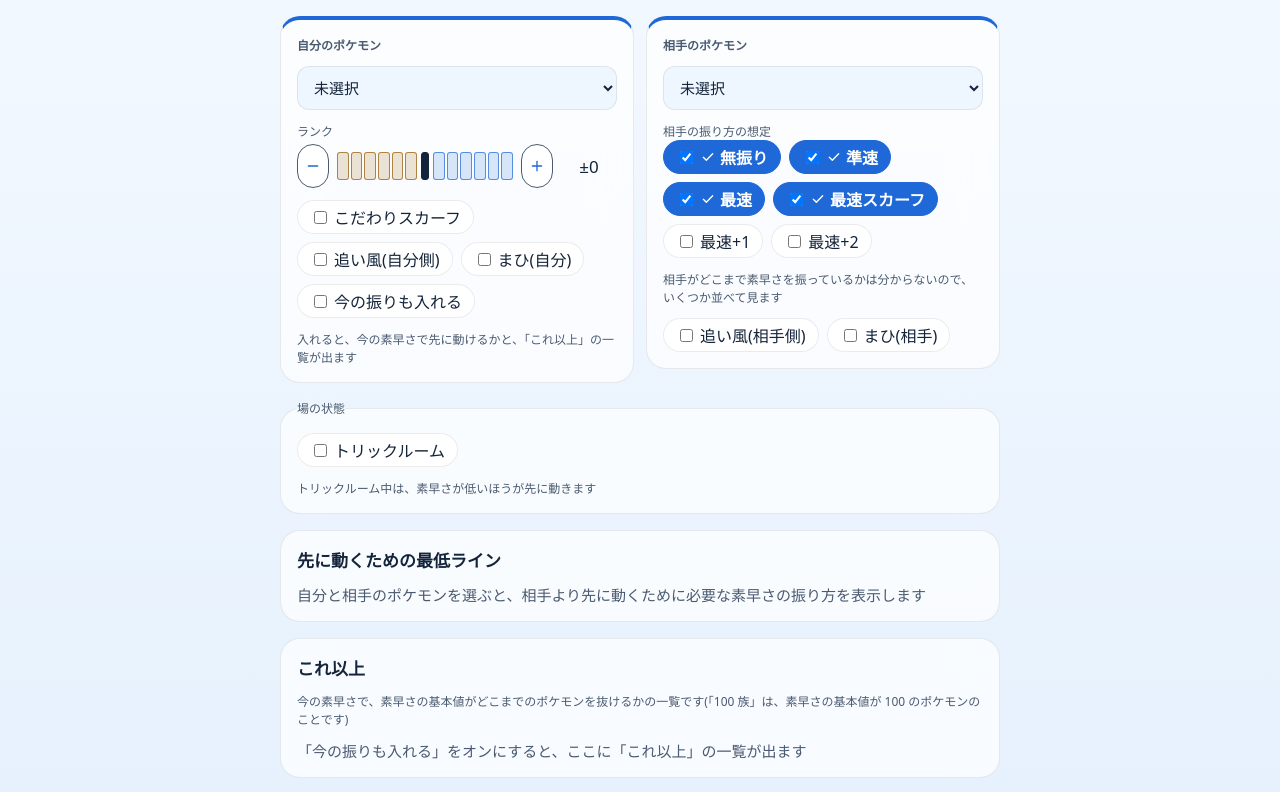
Test case: W10 読み込み中・エラー・古い応答 › matchup のエラー unknown_pokemon は role=alert で code から日本語にし、サーバーの英語は出さない
This screenshot has width=1280, height=792.
Select "テストカソウドリ" in the dropdown named "自分のポケモンを選ぶ": (457, 88) [297,66,617,110]
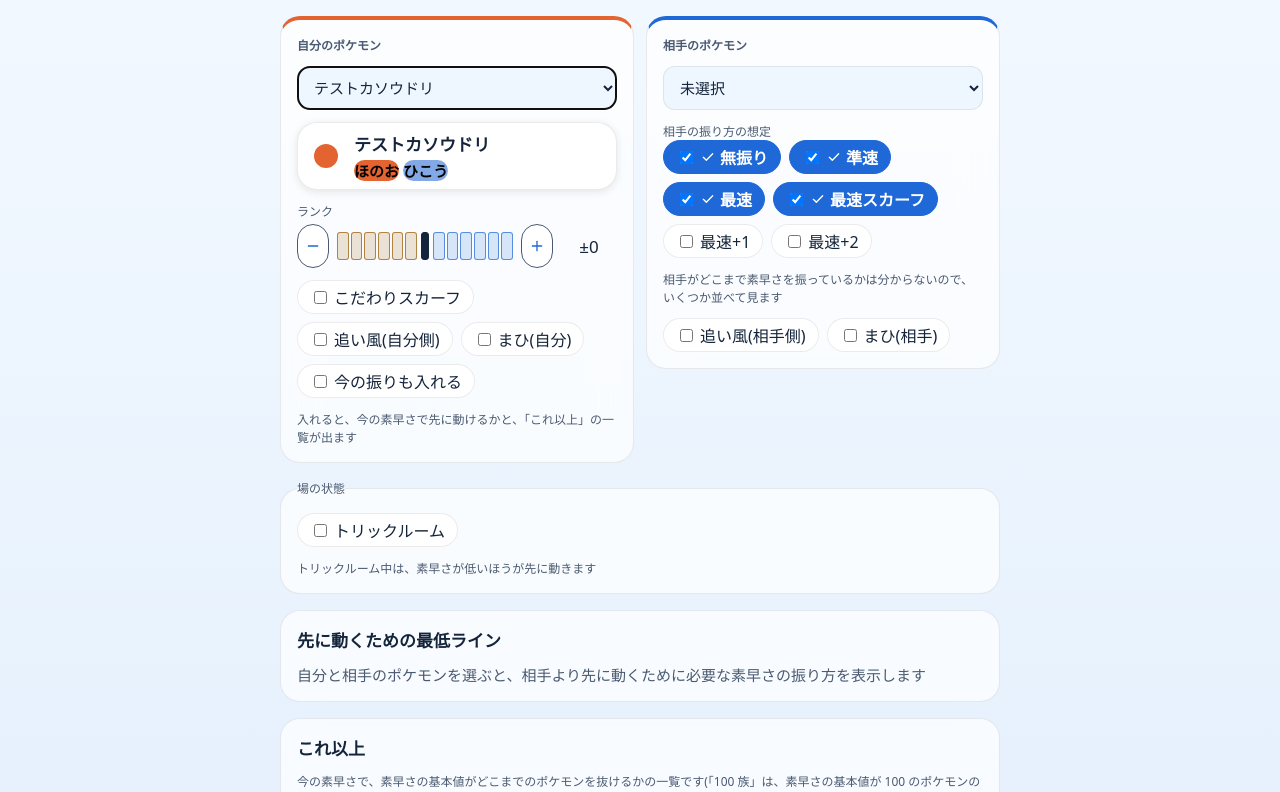
Select "テストカソウギョ" in the dropdown named "相手のポケモンを選ぶ": (823, 88) [663,66,983,110]
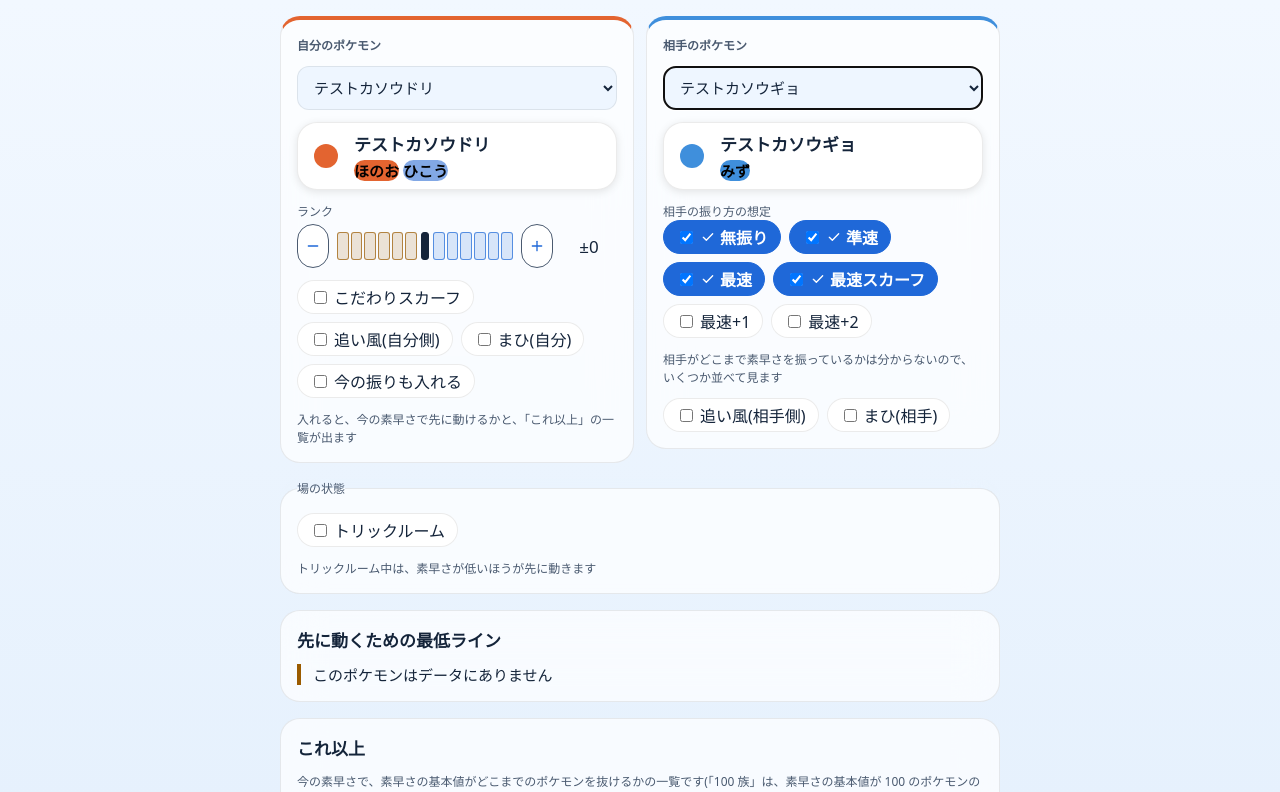
Expected: the message does not show "unknown pokemonId: 9999-000", [297,664,983,685]
Expected: the message reads "このポケモンはデータにありません", [313,665,553,685]
